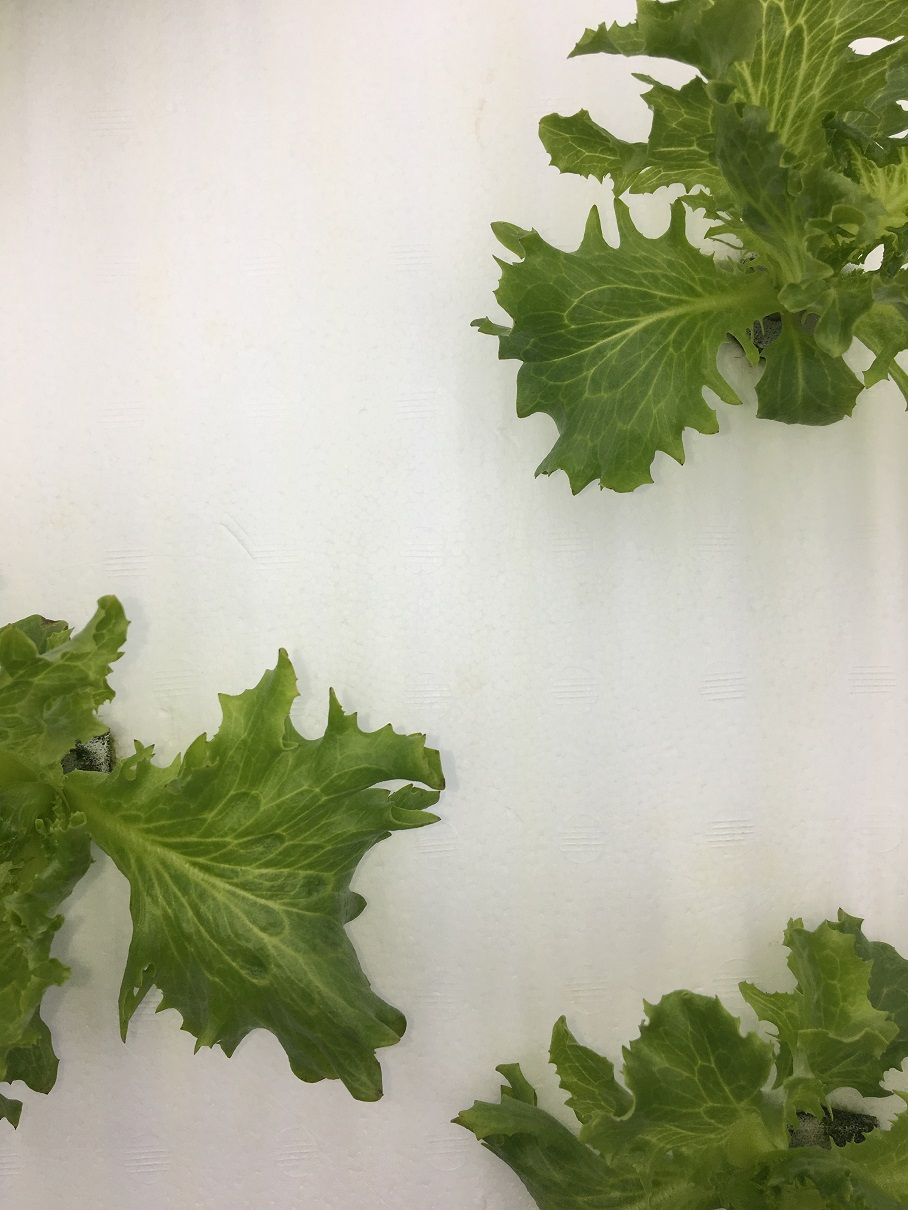tipburn: (124, 726, 165, 758), (824, 887, 849, 917), (34, 604, 60, 630), (370, 1085, 396, 1110), (413, 717, 436, 742), (373, 712, 398, 731), (438, 778, 457, 797)
